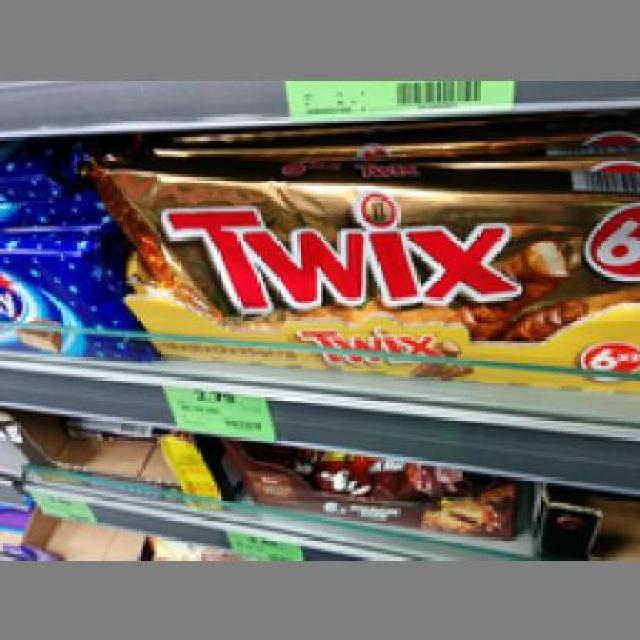Chocolate bar: (93, 160, 636, 351)
